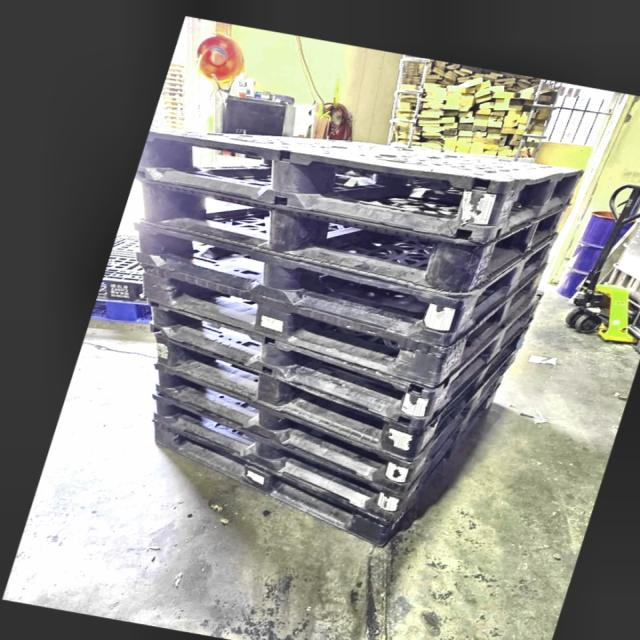igps: (135, 123, 588, 252), (123, 171, 481, 299), (132, 248, 442, 392), (130, 218, 465, 351), (141, 290, 430, 432), (147, 328, 419, 463), (148, 360, 412, 496), (146, 387, 399, 523), (150, 411, 392, 550)
